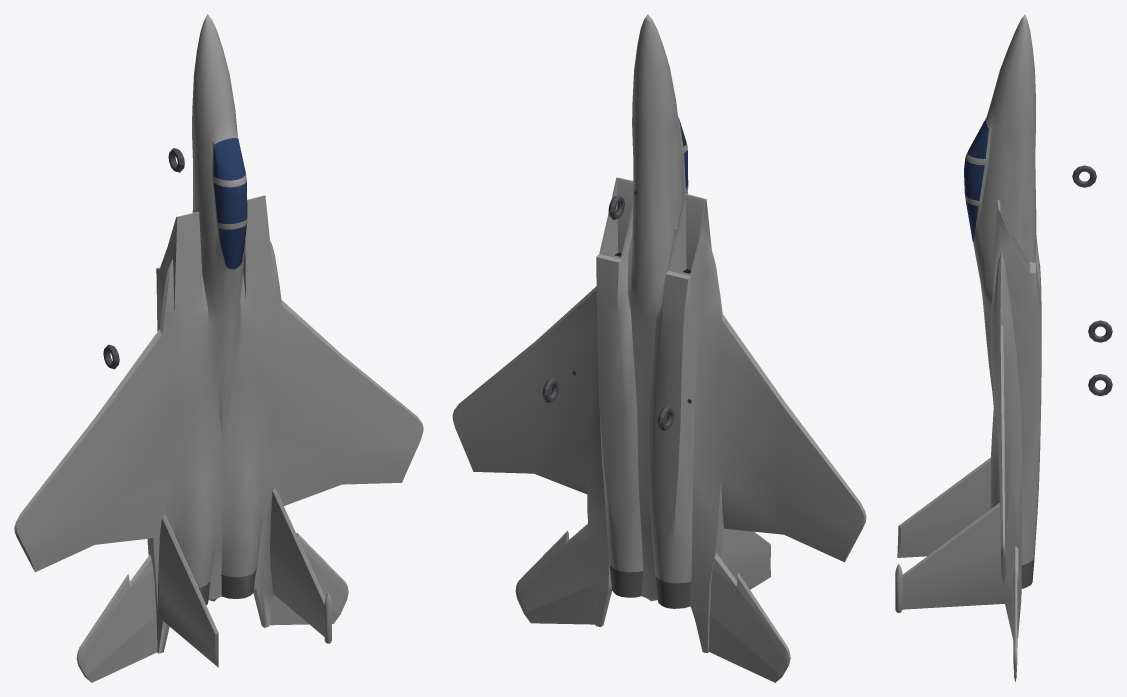
Rendered from shape_007_SVN_Custom_Aircraft_007.glb.
3 views of the same model, side by side, from view 1: azimuth 30°, elevation 25°; view 2: azimuth 150°, elevation 25°; view 3: azimuth 270°, elevation 25° (orthographic). The views are drawn at different scales.
Parts seen in each view (by area): view 1: Li_Si_Cin_F15.001; view 2: Li_Si_Cin_F15.001; view 3: Li_Si_Cin_F15.001.
Boxes of the visible parts, x1,y1,x2,y2 form: Li_Si_Cin_F15.001: [14, 14, 423, 682]; Li_Si_Cin_F15.001: [452, 14, 866, 682]; Li_Si_Cin_F15.001: [895, 14, 1112, 681].
Size of the model in its own units: 43.12 by 64 by 20.62.
